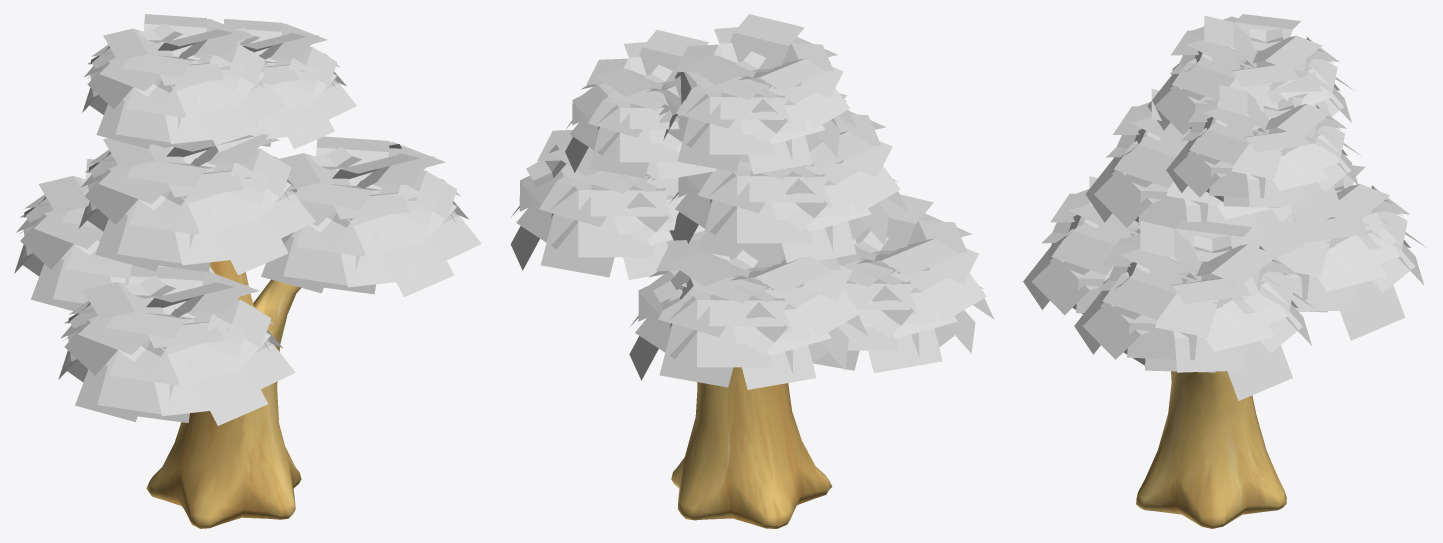
Rendered from Avocado_tree.fbx.
The picture shows the model from 3 angles, left to right: view 1: azimuth 30°, elevation 25°; view 2: azimuth 150°, elevation 25°; view 3: azimuth 270°, elevation 25°; orthographic projection. The views are drawn at different scales.
Visible parts, largest first — view 1: Avocado_tree; view 2: Avocado_tree; view 3: Avocado_tree.
Boxes of the visible parts, <box> form: Avocado_tree: <box>14,14,481,528</box>; Avocado_tree: <box>510,14,994,528</box>; Avocado_tree: <box>1023,14,1426,528</box>.
Size of the model in its own units: 1.5 by 1.64 by 1.32.
